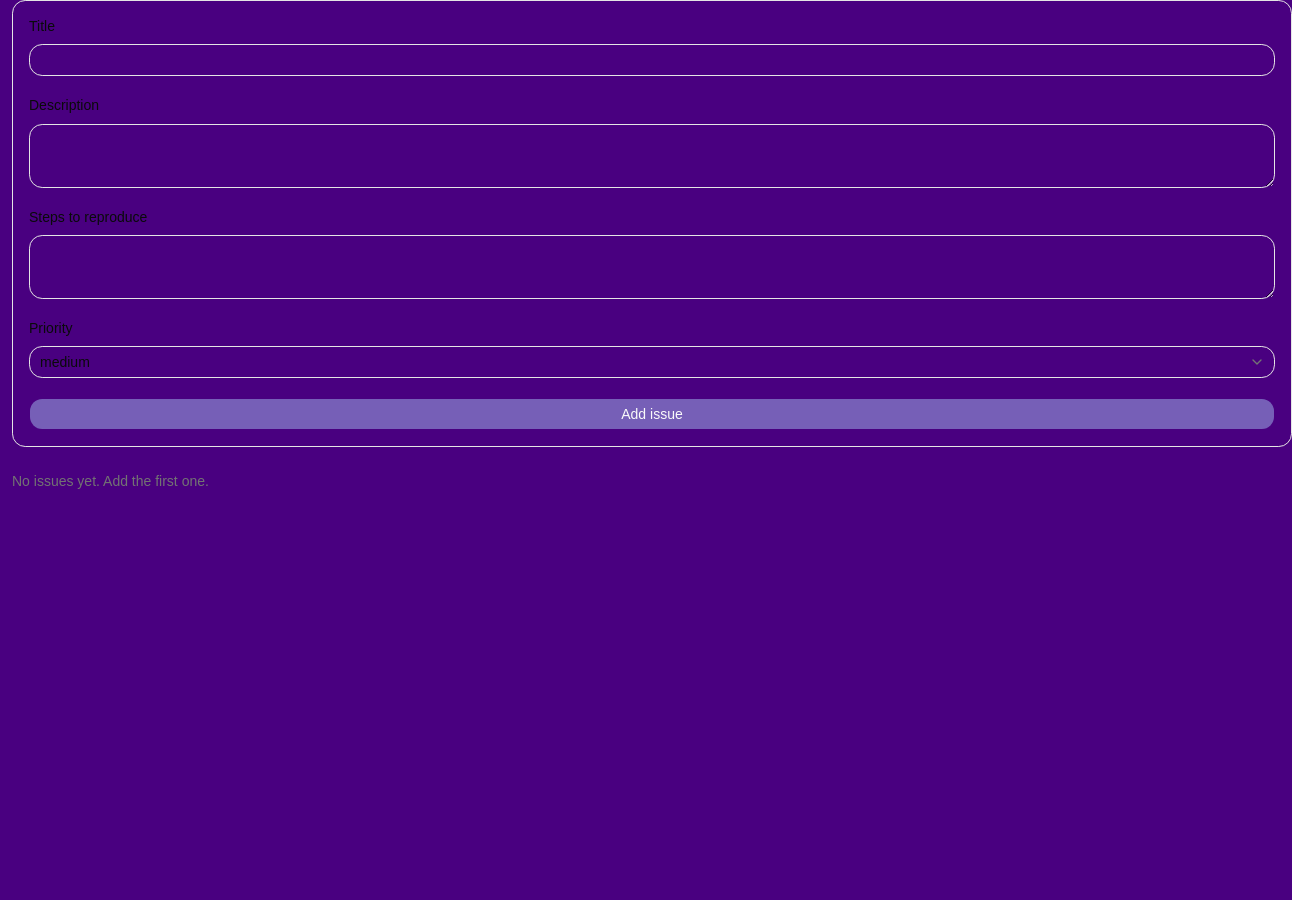
Test: IssueListPage (changing data) › can add the first issue to an empty list
Expected: the text "No issues yet. Add the first one." is shown, [12,473,209,489]
Type "My very first issue" into the field labelled "Title" at (652, 60), box [29,44,1275,76]
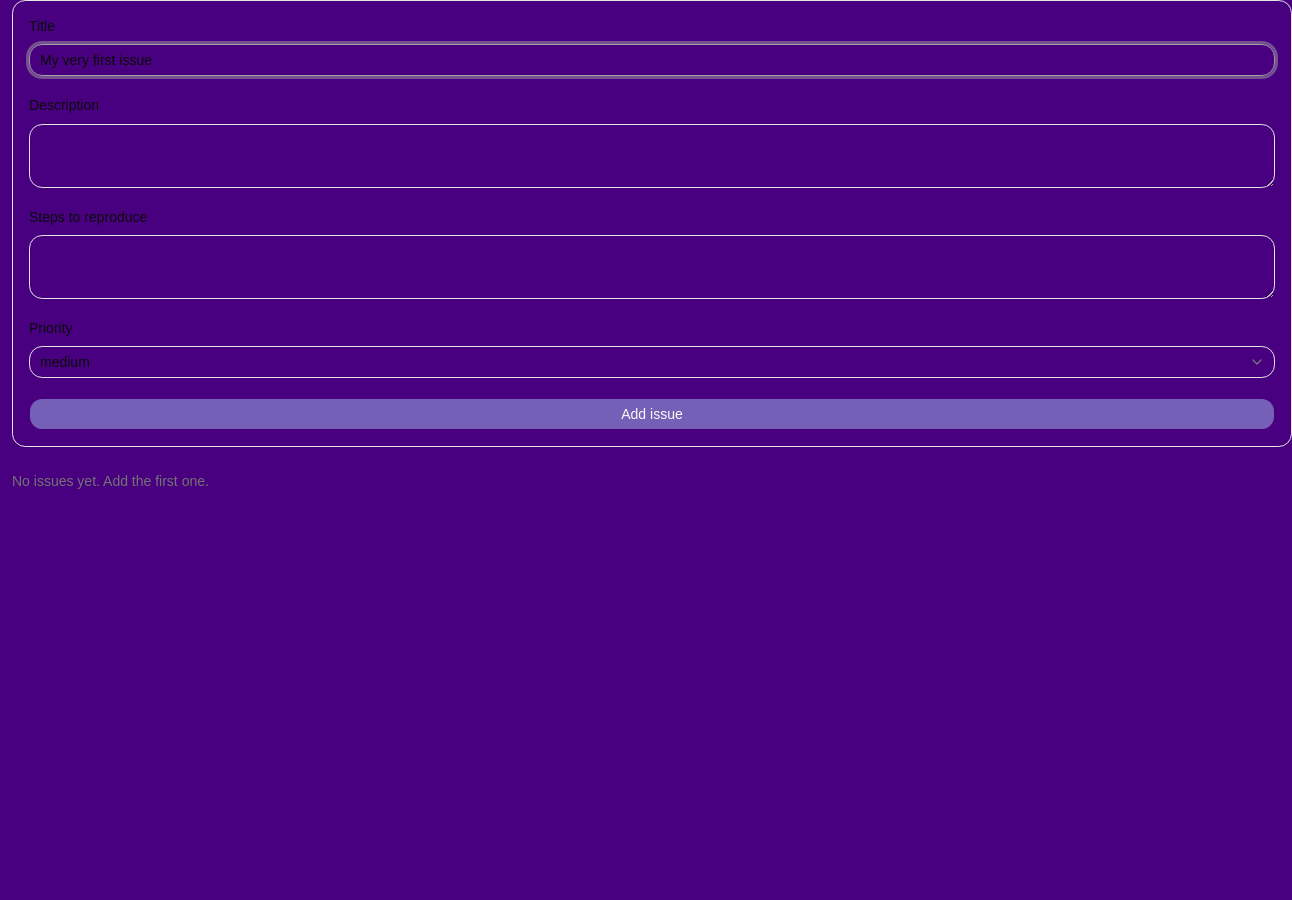
Type "A description" into the text box labelled "Description" at (652, 156), box [29,124,1275,188]
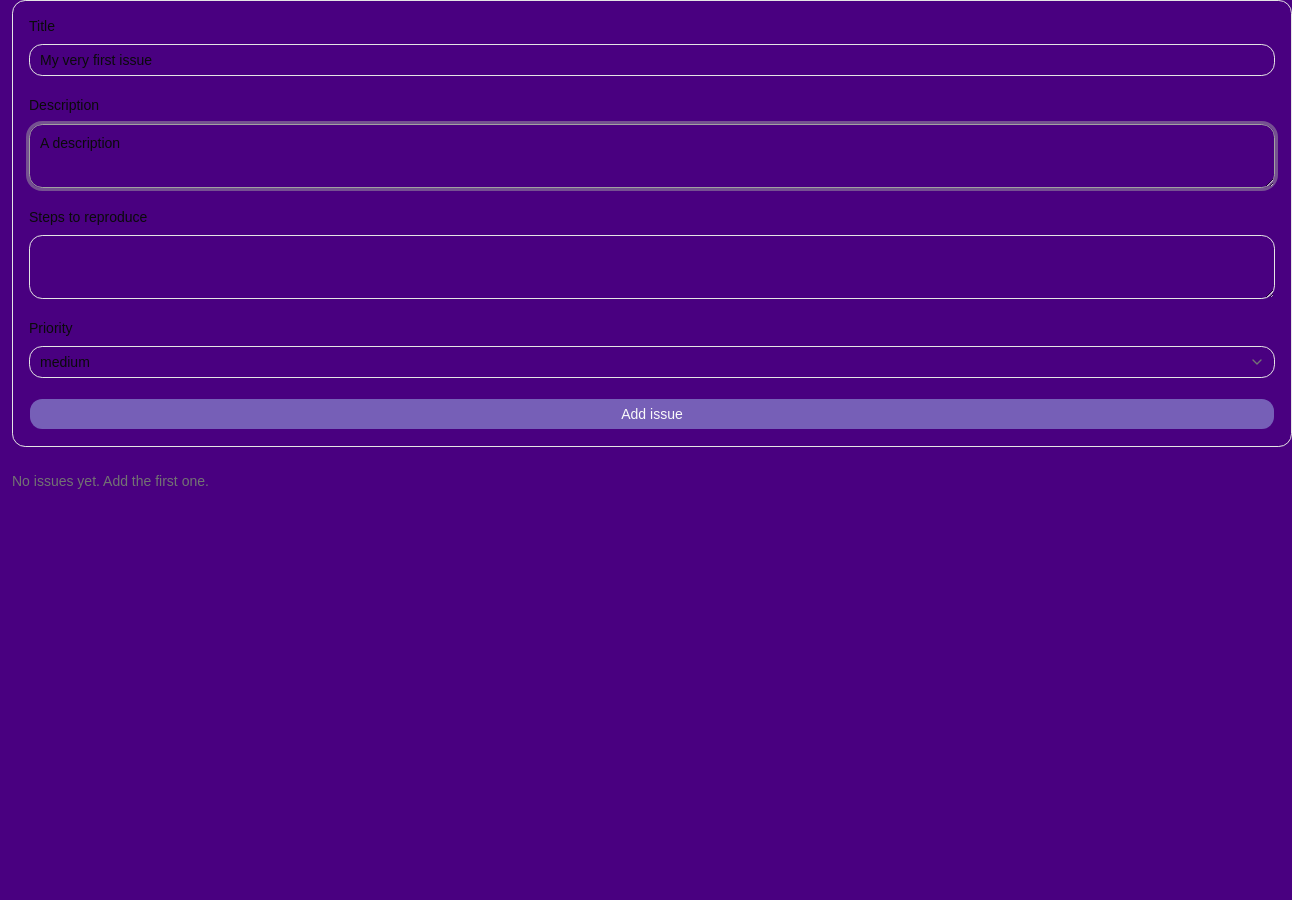
Type "Some steps" into the text box labelled "Steps to reproduce" at (652, 267), box [29,235,1275,299]
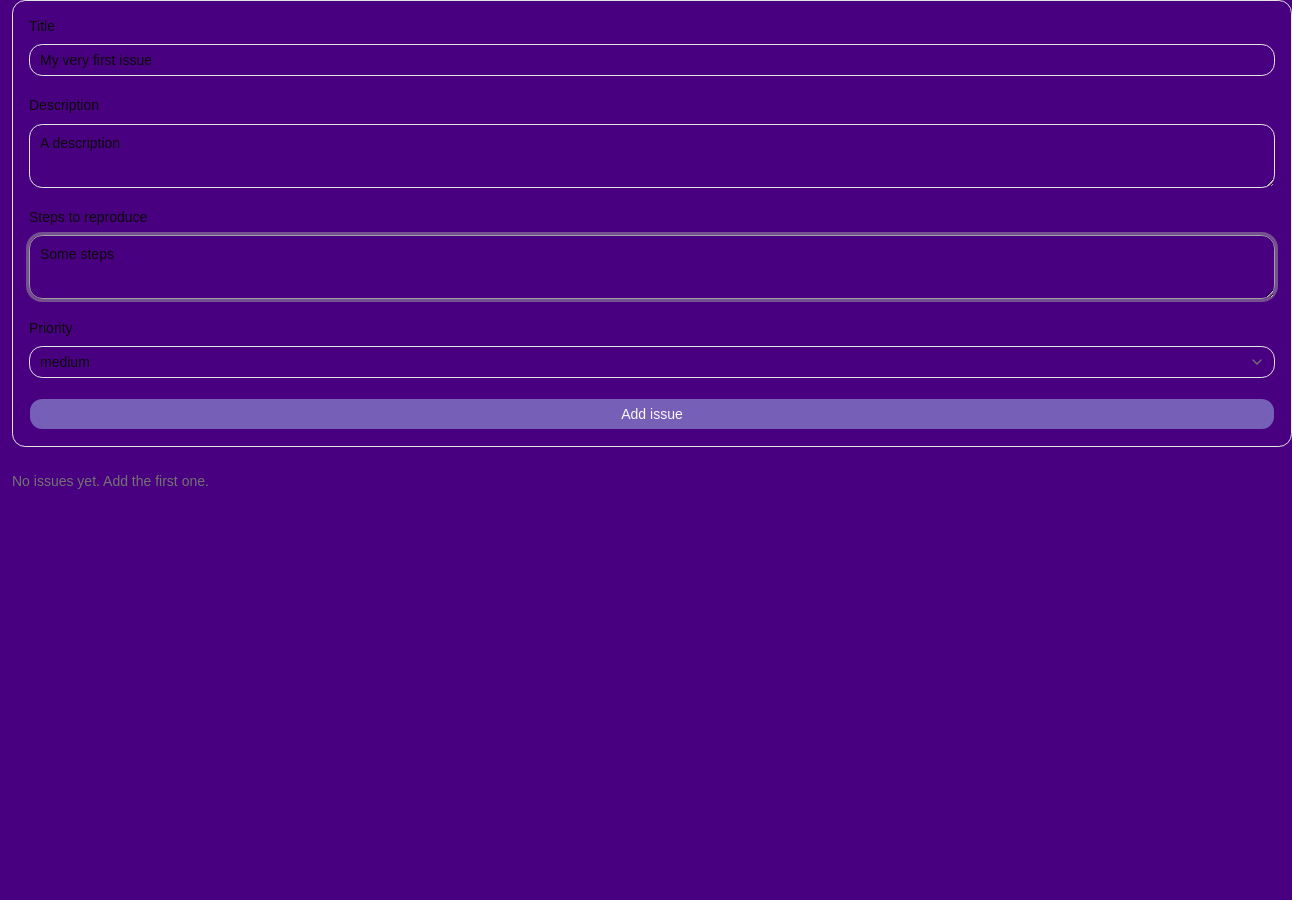
Click the button "Add issue" at (652, 414), box [29,398,1275,430]
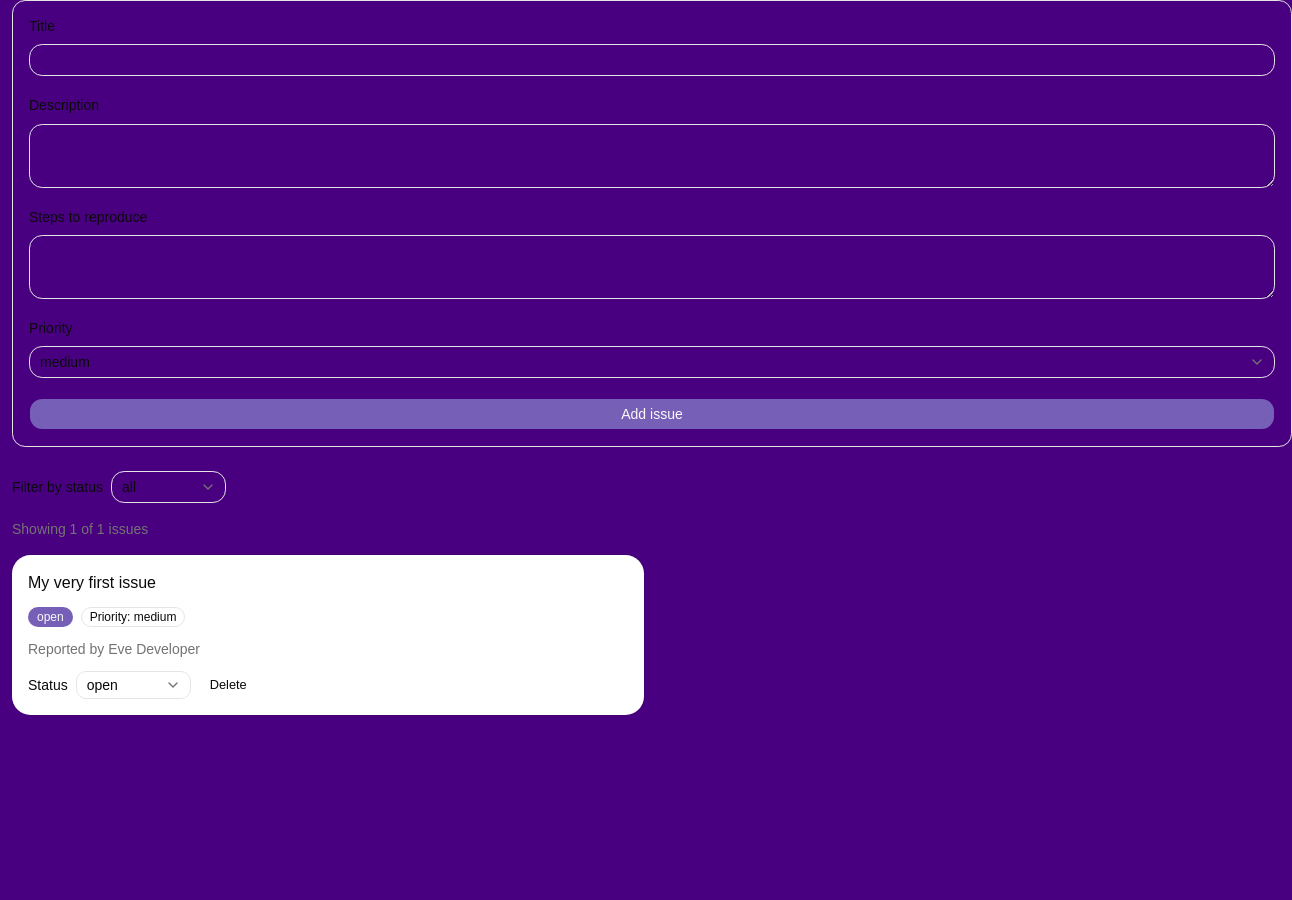
Expected: the heading "My very first issue" is shown, [28,574,156,591]
Expected: the text "No issues yet" is gone
